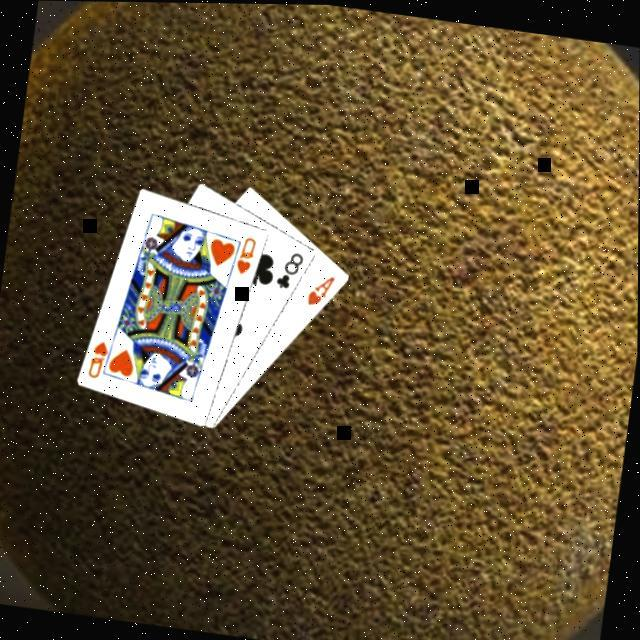8C: (273, 243, 308, 290)
AH: (304, 267, 340, 308)
QH: (86, 330, 120, 380), (233, 230, 261, 276)
